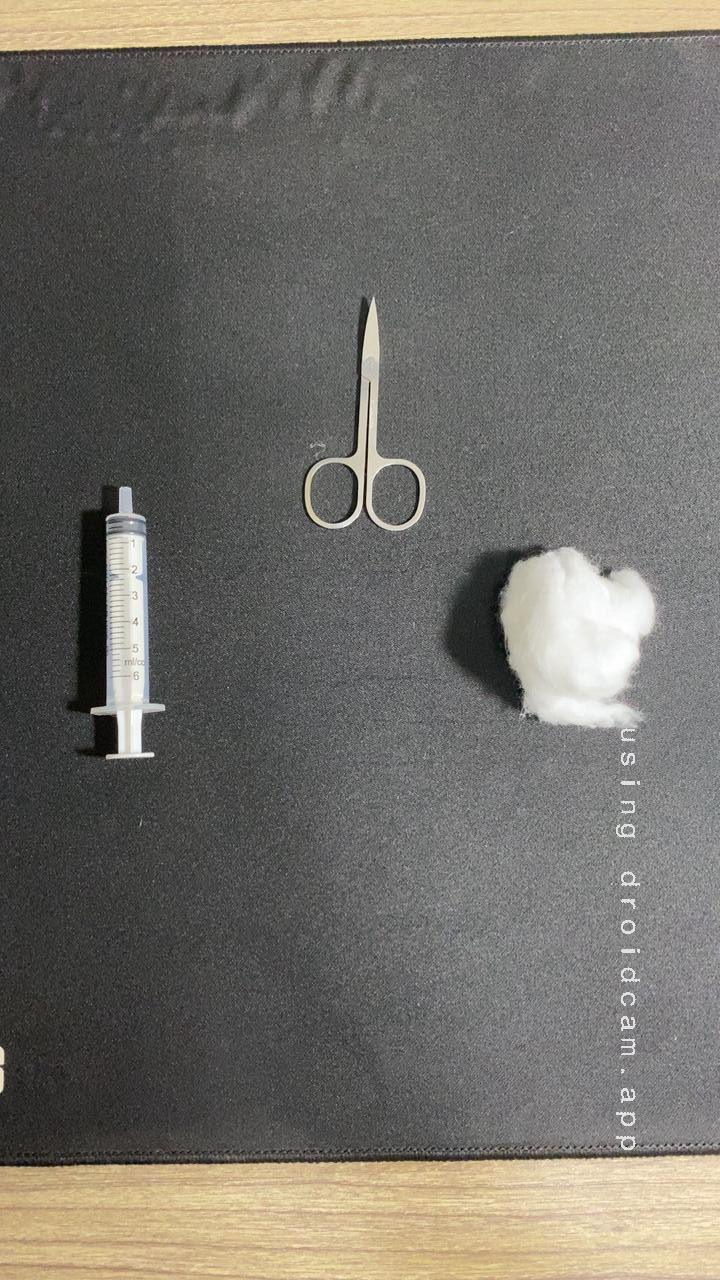cotton: (467, 533, 677, 749)
scissor: (280, 284, 451, 544)
syringe: (57, 466, 193, 776)
